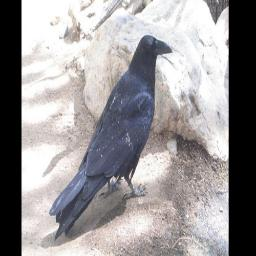Crow: (50, 32, 174, 243)
